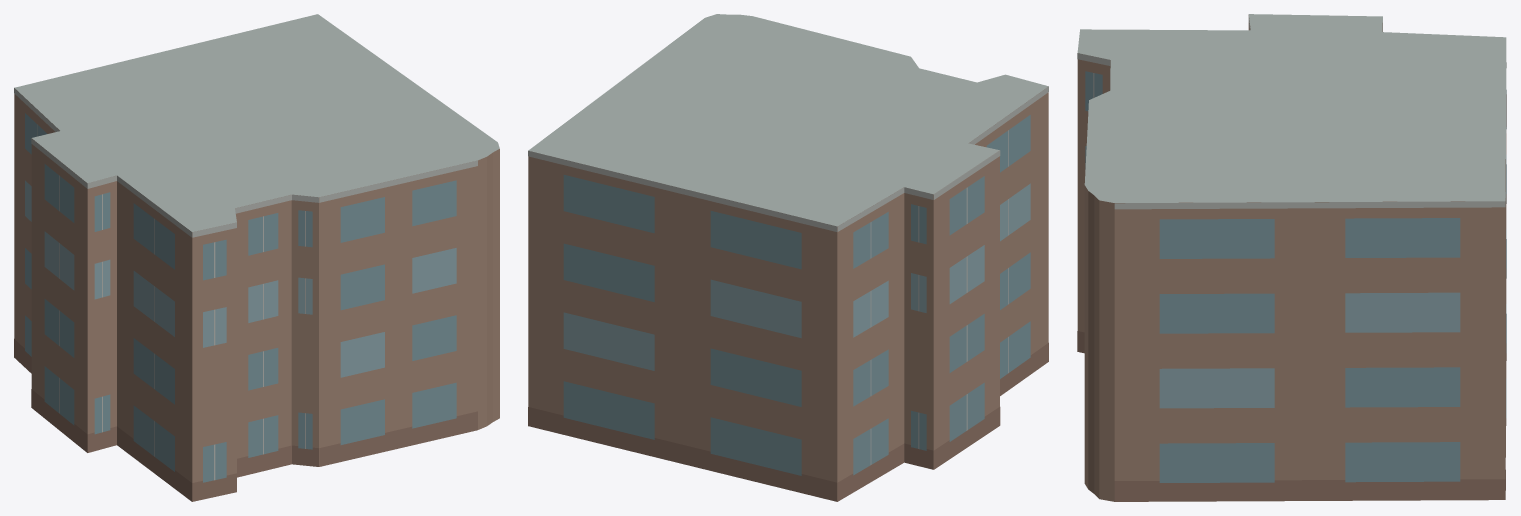
Rendered from survey-upis-32777906.glb.
The picture shows the model from 3 angles, left to right: view 1: azimuth 30°, elevation 25°; view 2: azimuth 150°, elevation 25°; view 3: azimuth 270°, elevation 25°; orthographic projection. The views are drawn at different scales.
Parts seen in each view (by area): view 1: survey-upis-32777906.tmp; view 2: survey-upis-32777906.tmp; view 3: survey-upis-32777906.tmp.
Boxes of the visible parts, x1,y1,x2,y2 form: survey-upis-32777906.tmp: (14,14,499,501); survey-upis-32777906.tmp: (528,14,1048,501); survey-upis-32777906.tmp: (1077,14,1506,501).
Size of the model in its own units: 15.89 by 11.7 by 15.23.
